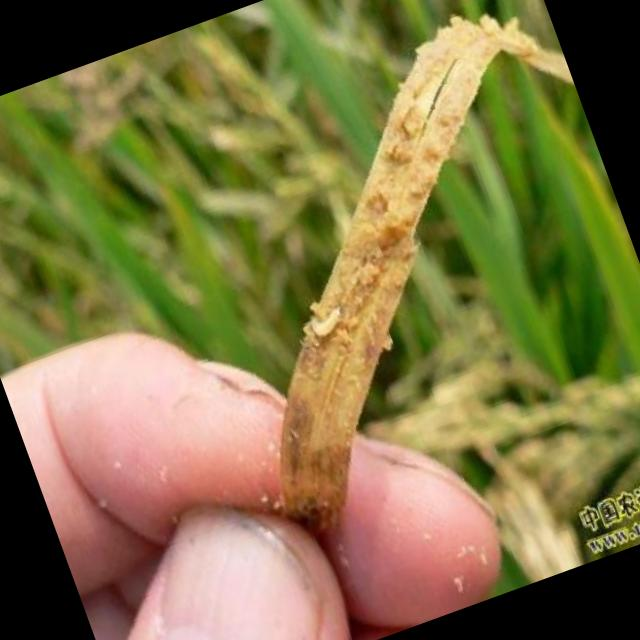whorl-maggot: (302, 296, 359, 351)
